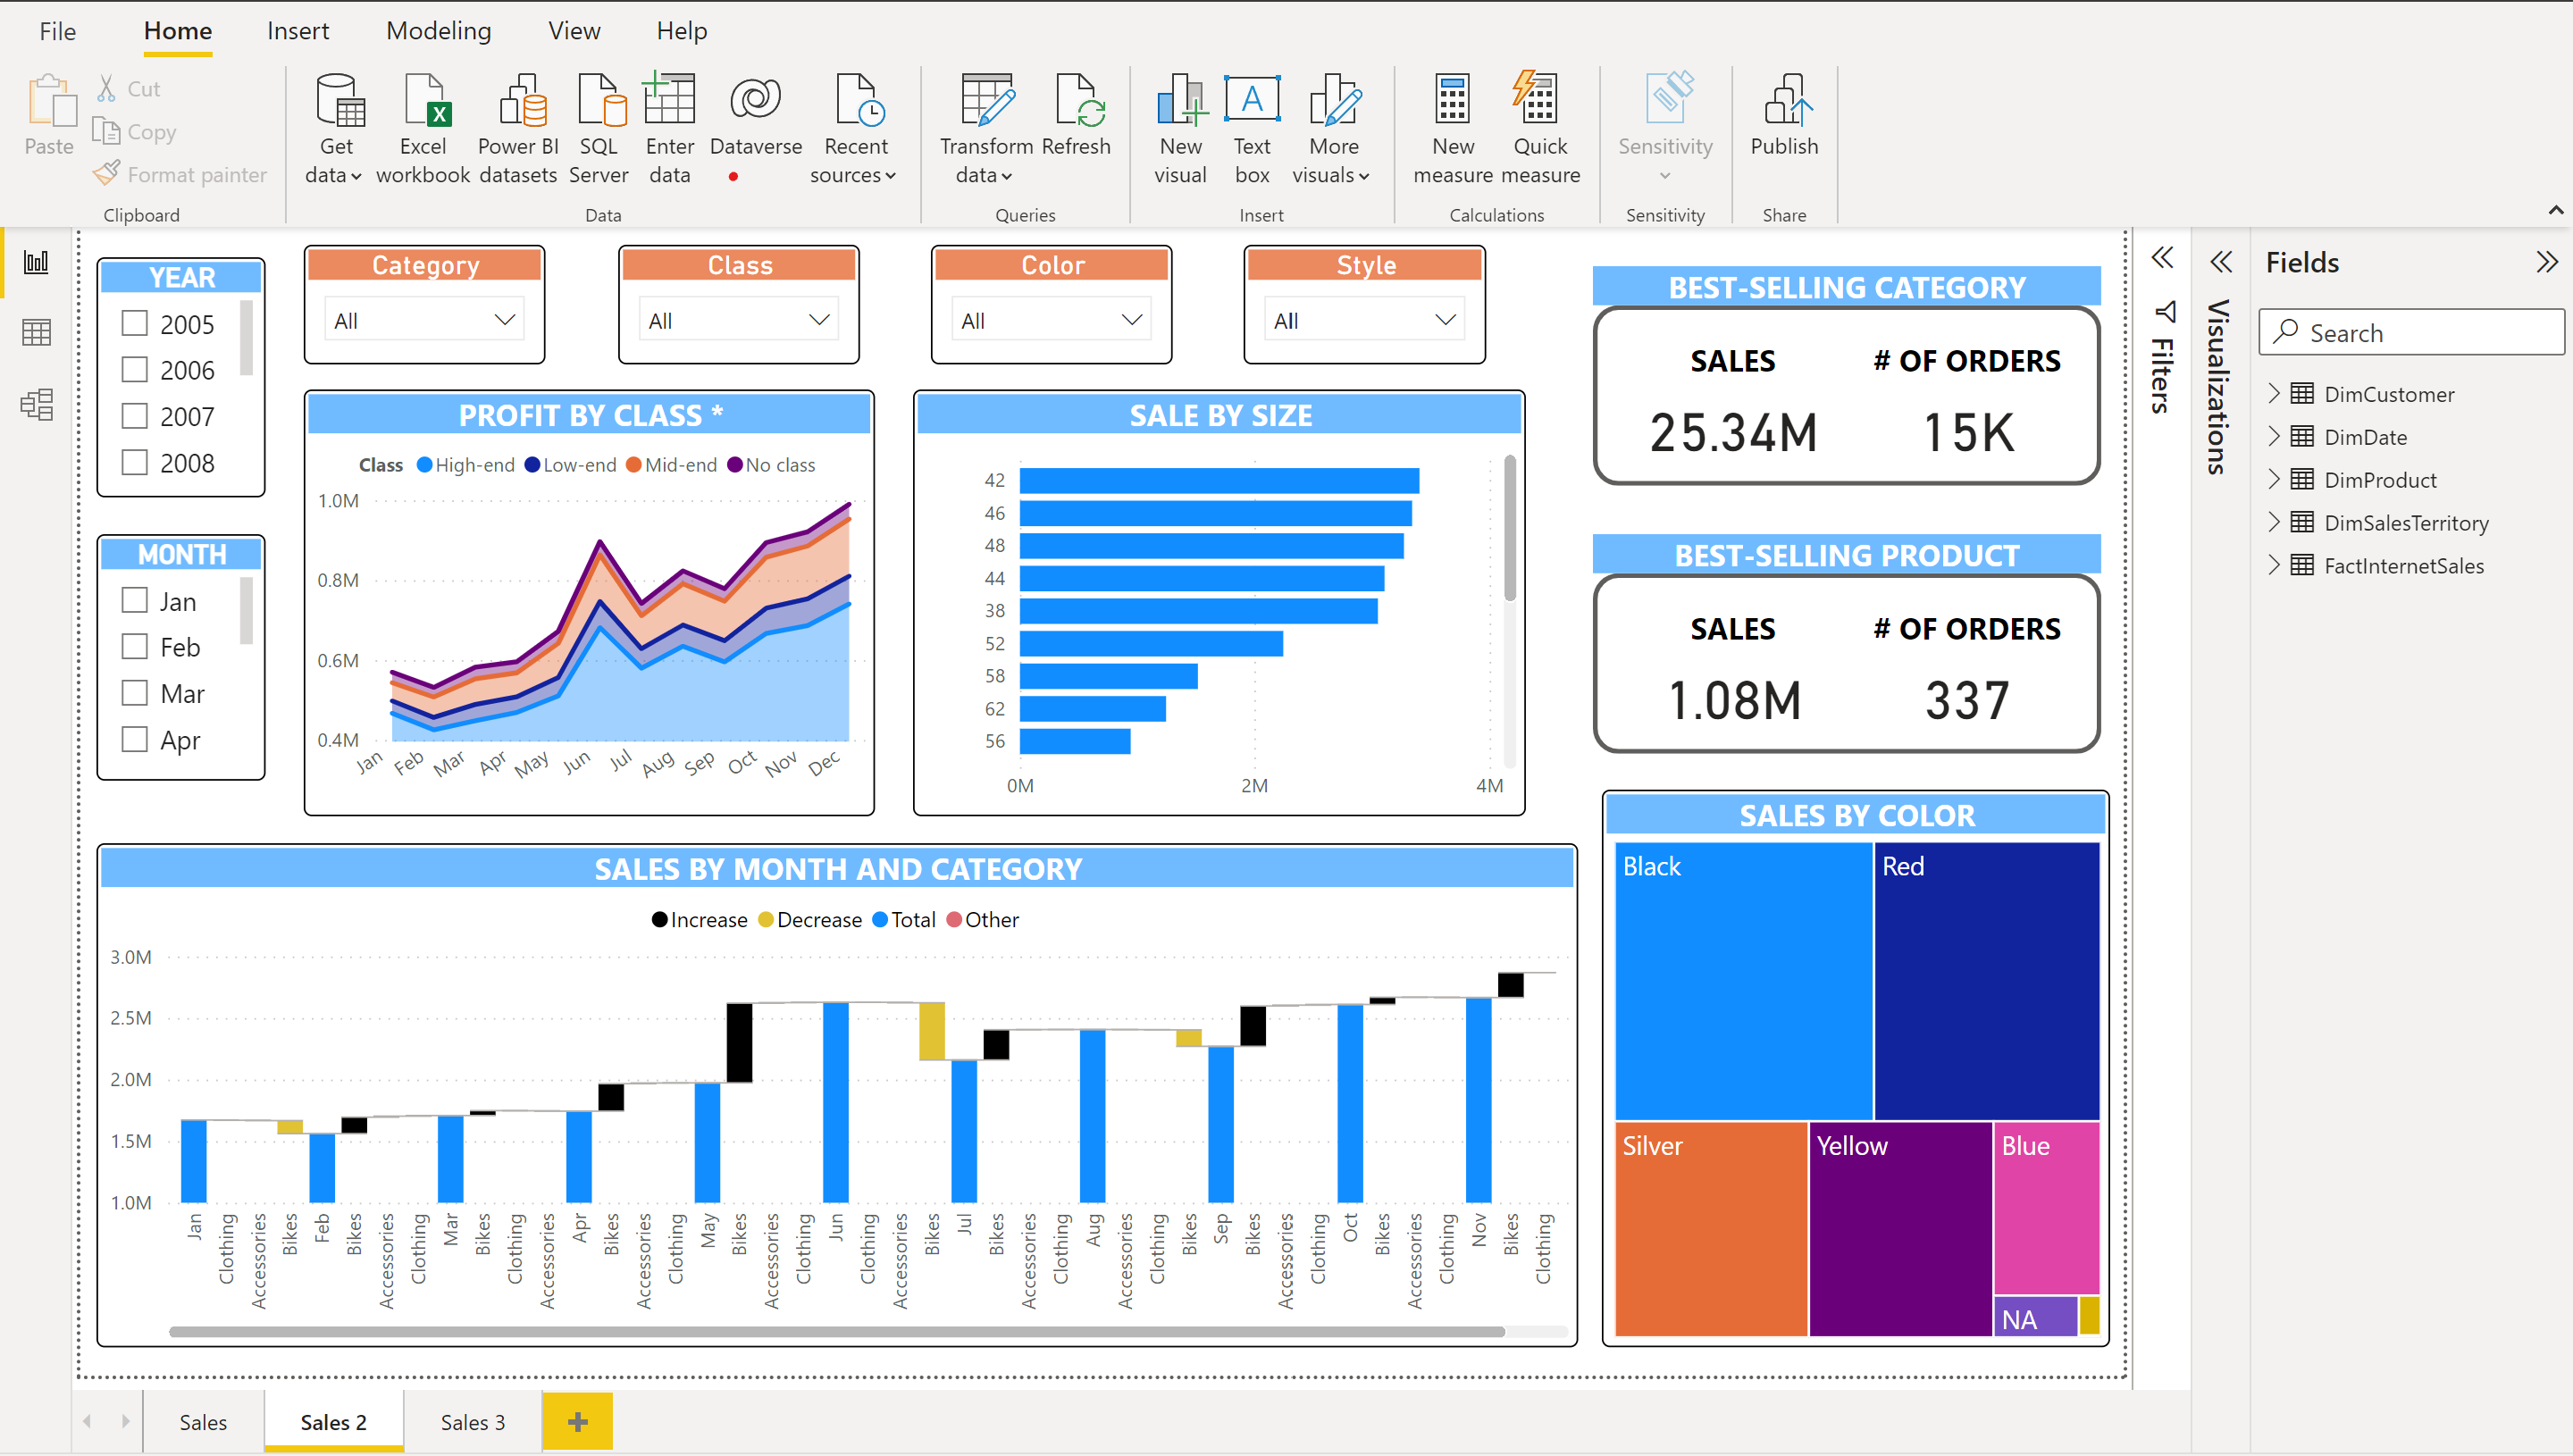

The page's visual inventory and layout, read from the dashboard file:
{"tool":"powerbi","page":{"name":"Sales 2","canvas":[1280,720],"ordinal":1},"visuals":[{"type":"slicer","title":"YEAR","fields":{"Values":["DimDate.Year"]},"box":[10.2,19.1,105.8,150.4],"z":0},{"type":"slicer","title":"MONTH","fields":{"Values":["DimDate.Month Name"]},"box":[10.2,192.5,105.8,154.3],"z":1000},{"type":"card","title":"# OF ORDERS","fields":{"Values":["Sum(FactInternetSales.OrderQuantity)"]},"box":[1111.7,238.4,140.2,86.7],"z":2000},{"type":"card","title":"SALES","fields":{"Values":["Sum(FactInternetSales.Selling Value)"]},"box":[965.1,238.4,140.2,86.7],"z":3000},{"type":"card","title":"SALES","fields":{"Values":["Sum(FactInternetSales.Selling Value)"]},"box":[965.1,70.1,140.2,86.7],"z":4000},{"type":"stackedAreaChart","title":"PROFIT BY CLASS *","fields":{"Series":["DimProduct.Class"],"Y":["FactInternetSales.Total Profit"],"Category":["DimDate.Year Hierarchy.Year","DimDate.Year Hierarchy.CalendarSemester","DimDate.Year Hierarchy.CalendarQuarter","DimDate.Year Hierarchy.Month Name","DimDate.Year Hierarchy.Day"]},"box":[140.2,102,358.2,267.7],"z":5000},{"type":"card","title":"# OF ORDERS","fields":{"Values":["Sum(FactInternetSales.OrderQuantity)"]},"box":[1111.7,70.1,140.2,86.7],"z":6000},{"type":"slicer","title":"Class","fields":{"Values":["DimProduct.Class"]},"box":[336.6,11.5,151.7,75.2],"z":7000},{"type":"slicer","title":"Color","fields":{"Values":["DimProduct.Color"]},"box":[532.9,11.5,151.7,75.2],"z":8000},{"type":"slicer","title":"Category","fields":{"Values":["DimProduct.Product Category"]},"box":[140.2,11,151.7,75.2],"z":9000},{"type":"slicer","title":"Style","fields":{"Values":["DimProduct.Style"]},"box":[729.2,11.2,151.7,75.2],"z":10000},{"type":"treemap","title":"SALES BY COLOR","fields":{"Values":["Sum(FactInternetSales.Selling Value)"],"Group":["DimProduct.Color"]},"box":[952.4,353.1,318.7,349.3],"z":11000},{"type":"clusteredBarChart","title":"SALE BY SIZE","fields":{"Y":["Sum(FactInternetSales.Selling Value)"],"Category":["DimProduct.Size"]},"box":[521.4,102,383.7,267.7],"z":12000},{"type":"actionButton","title":"BEST-SELLING PRODUCT","box":[947.3,192.5,318.7,137.7],"z":13000},{"type":"actionButton","title":"BEST-SELLING CATEGORY","box":[947.3,25,318.7,137.7],"z":14000},{"type":"waterfallChart","title":"SALES BY MONTH AND CATEGORY","fields":{"Breakdown":["DimProduct.Product Category"],"Category":["DimDate.Month Name"],"Y":["Sum(FactInternetSales.Selling Value)"]},"box":[10.2,386.3,928.1,316.2],"z":15000}]}

Visuals, with their boxes on the page's 1280x720 design canvas (x1, y1, x2, y2). These are canvas units, not pixel positions in the 2573x1456 screenshot, which may show the page scaled, cropped or inside an application window:
"YEAR" slicer: box=[10, 19, 116, 170]
"MONTH" slicer: box=[10, 192, 116, 347]
"# OF ORDERS" card: box=[1112, 238, 1252, 325]
"SALES" card: box=[965, 238, 1105, 325]
"SALES" card: box=[965, 70, 1105, 157]
"PROFIT BY CLASS *" stackedAreaChart: box=[140, 102, 498, 370]
"# OF ORDERS" card: box=[1112, 70, 1252, 157]
"Class" slicer: box=[337, 12, 488, 87]
"Color" slicer: box=[533, 12, 685, 87]
"Category" slicer: box=[140, 11, 292, 86]
"Style" slicer: box=[729, 11, 881, 86]
"SALES BY COLOR" treemap: box=[952, 353, 1271, 702]
"SALE BY SIZE" clusteredBarChart: box=[521, 102, 905, 370]
"BEST-SELLING PRODUCT" actionButton: box=[947, 192, 1266, 330]
"BEST-SELLING CATEGORY" actionButton: box=[947, 25, 1266, 163]
"SALES BY MONTH AND CATEGORY" waterfallChart: box=[10, 386, 938, 702]
